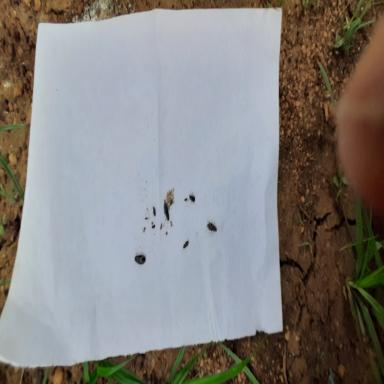pbw: (134, 254, 146, 264), (164, 201, 169, 220)
